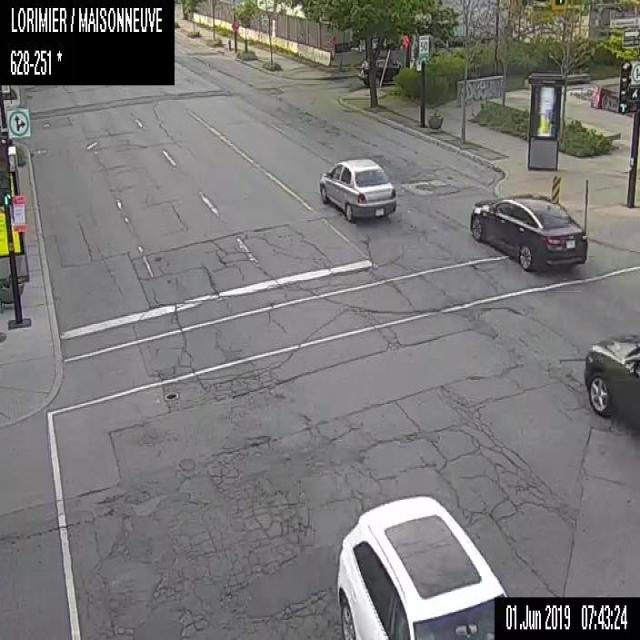vehicle: (336, 493, 507, 639), (468, 191, 588, 272), (582, 328, 639, 437), (318, 156, 396, 223), (358, 57, 402, 86)
